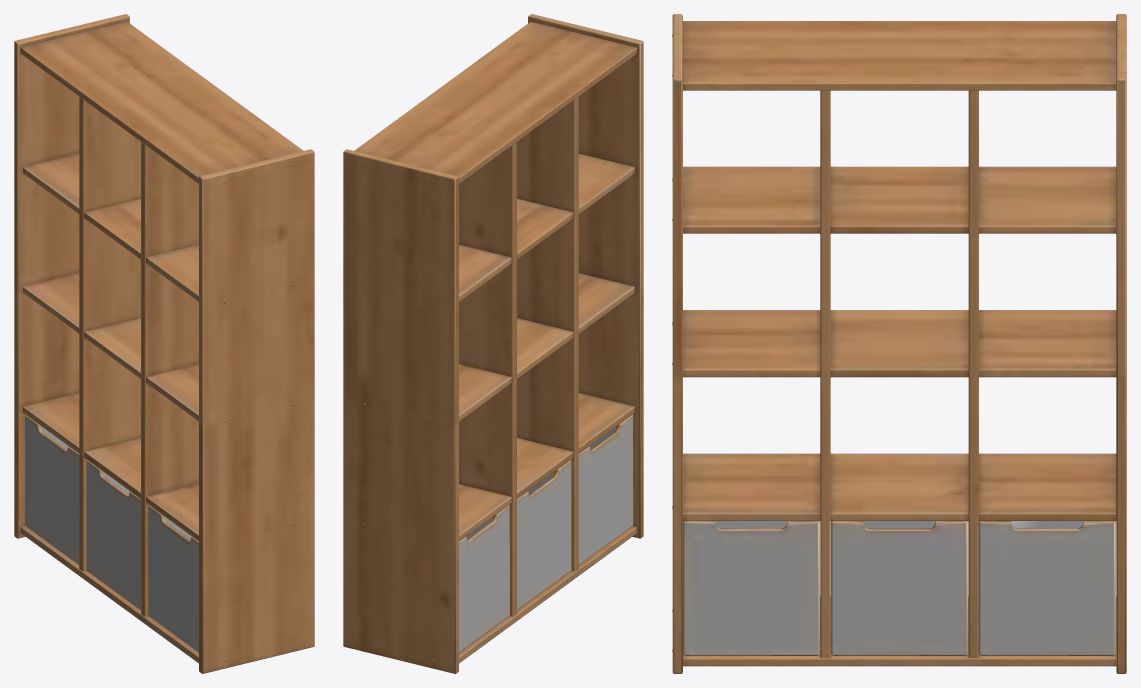
Rendered from ph-wooden-display-shelves-01.lod1.glb.
3 views of the same model, side by side, from view 1: azimuth 30°, elevation 25°; view 2: azimuth 150°, elevation 25°; view 3: azimuth 270°, elevation 25° (orthographic). The views are drawn at different scales.
Parts seen in each view (by area): view 1: wooden_display_shelves_01, wooden_display_shelves_01_drawer_01, wooden_display_shelves_01_drawer_02, wooden_display_shelves_01_drawer_03; view 2: wooden_display_shelves_01, wooden_display_shelves_01_drawer_03, wooden_display_shelves_01_drawer_02, wooden_display_shelves_01_drawer_01; view 3: wooden_display_shelves_01, wooden_display_shelves_01_drawer_02, wooden_display_shelves_01_drawer_03, wooden_display_shelves_01_drawer_01.
Part boxes in pixels (x1,y1,x2,y2): wooden_display_shelves_01: (14, 14, 314, 673); wooden_display_shelves_01_drawer_01: (25, 415, 79, 565); wooden_display_shelves_01_drawer_02: (86, 460, 140, 610); wooden_display_shelves_01_drawer_03: (148, 505, 198, 652); wooden_display_shelves_01: (343, 14, 643, 673); wooden_display_shelves_01_drawer_03: (578, 415, 633, 565); wooden_display_shelves_01_drawer_02: (517, 460, 571, 610); wooden_display_shelves_01_drawer_01: (459, 505, 509, 652); wooden_display_shelves_01: (672, 14, 1126, 673); wooden_display_shelves_01_drawer_02: (831, 521, 968, 655); wooden_display_shelves_01_drawer_03: (683, 521, 819, 655); wooden_display_shelves_01_drawer_01: (979, 521, 1115, 655).
Bounding box in the file's own units: 0.3714 × 1.56 × 1.08.
1 material, 1 textured.
